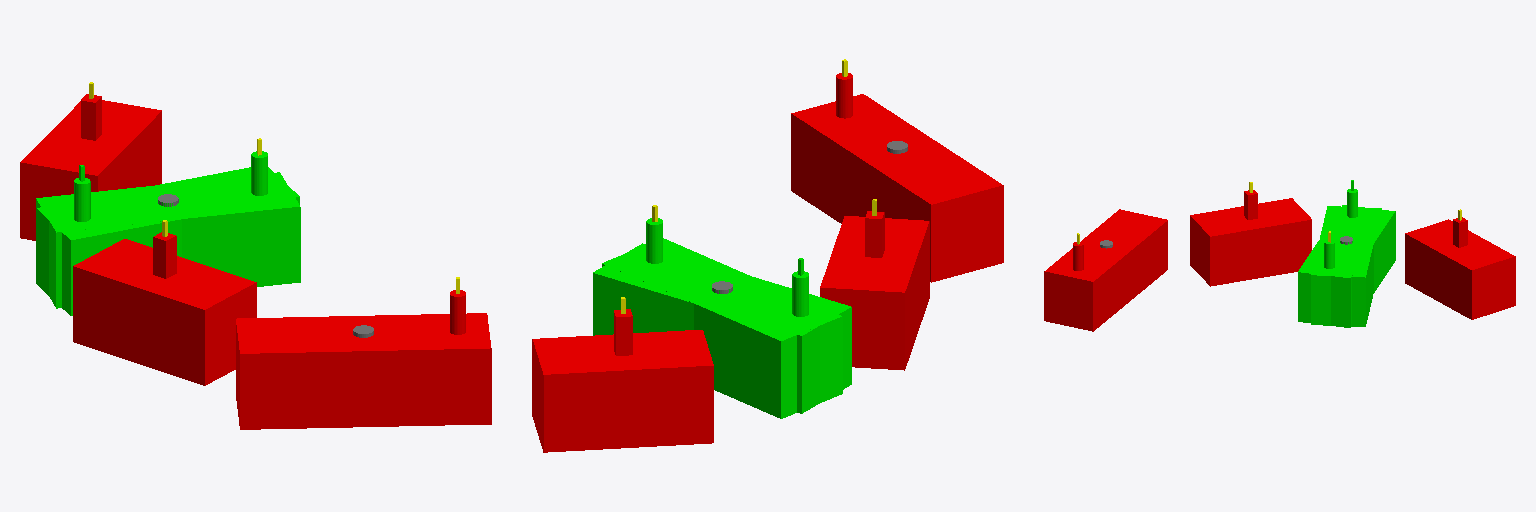
robot.urdf — continuous_space2:
<?xml version="1.0"?>
<!-- created with Phobos 1.0.1 "Capricious Choutengan" -->
  <robot name="continuous_space2">

    <link name="base_link">
    </link>

    <link name="goal">
      <visual name="visual_box_0_link_0.001">
        <origin xyz="0 0 0" rpy="0 0 0"/>
        <geometry>
          <box size="2.996 0.998 0.998"/>
        </geometry>
        <material name="green_translucent"/>
      </visual>
    </link>

    <link name="link_0_joint_0">
      <visual name="visual_box_0_link_0">
        <origin xyz="0 0 0" rpy="0 0 0"/>
        <geometry>
          <box size="2.999 0.999 0.999"/>
        </geometry>
        <material name="green"/>
      </visual>
      <collision name="collision_box_0_link_0">
        <origin xyz="0 0 0" rpy="0 0 0"/>
        <geometry>
          <box size="2.999 0.999 0.999"/>
        </geometry>
      </collision>
    </link>

    <link name="link_1_joint_0">
      <visual name="visual_box_18_link_1">
        <origin xyz="0 0 0" rpy="0 0 0"/>
        <geometry>
          <box size="1.999 0.999 0.999"/>
        </geometry>
        <material name="red"/>
      </visual>
      <collision name="collision_box_18_link_1">
        <origin xyz="0 0 0" rpy="0 0 0"/>
        <geometry>
          <box size="1.999 0.999 0.999"/>
        </geometry>
      </collision>
    </link>

    <link name="link_2_joint_0">
      <visual name="visual_box_31_link_2">
        <origin xyz="0 0 0" rpy="0 0 0"/>
        <geometry>
          <box size="2.999 0.999 0.999"/>
        </geometry>
        <material name="red"/>
      </visual>
      <collision name="collision_box_31_link_2">
        <origin xyz="0 0 0" rpy="0 0 0"/>
        <geometry>
          <box size="2.999 0.999 0.999"/>
        </geometry>
      </collision>
    </link>

    <link name="link_3_joint_0">
      <visual name="visual_box_53_link_3">
        <origin xyz="0 0 0" rpy="0 0 0"/>
        <geometry>
          <box size="1.999 0.999 0.999"/>
        </geometry>
        <material name="red"/>
      </visual>
      <collision name="collision_box_53_link_3">
        <origin xyz="0 0 0" rpy="0 0 0"/>
        <geometry>
          <box size="1.999 0.999 0.999"/>
        </geometry>
      </collision>
    </link>

    <link name="link_fixed_19_handle_shaft">
      <visual name="visual_box_fixed_19_handle_shaft">
        <origin xyz="0 0 0" rpy="0 0 0"/>
        <geometry>
          <box size="0.199 0.199 0.499"/>
        </geometry>
        <material name="red"/>
      </visual>
      <collision name="collision_box_fixed_19_handle_shaft">
        <origin xyz="0 0 0" rpy="0 0 0"/>
        <geometry>
          <box size="0.199 0.199 0.499"/>
        </geometry>
      </collision>
    </link>

    <link name="link_fixed_1_hinge">
      <visual name="visual_cylinder_fixed_1_hinge">
        <origin xyz="0 0 0" rpy="0 0 0"/>
        <geometry>
          <cylinder radius="0.1245" length="1.099"/>
        </geometry>
        <material name="gray"/>
      </visual>
    </link>

    <link name="link_fixed_1_hinge.001">
      <visual name="visual_cylinder_fixed_1_hinge.001">
        <origin xyz="0 0 0" rpy="0 0 0"/>
        <geometry>
          <cylinder radius="0.12438" length="1.0979"/>
        </geometry>
        <material name="green_translucent"/>
      </visual>
    </link>

    <link name="link_fixed_20_handle_knob">
      <visual name="visual_box_fixed_20_handle_knob">
        <origin xyz="0 0 0" rpy="0 0 0"/>
        <geometry>
          <box size="0.049 0.049 0.199"/>
        </geometry>
        <material name="yellow"/>
      </visual>
      <collision name="collision_box_fixed_20_handle_knob">
        <origin xyz="0 0 0" rpy="0 0 0"/>
        <geometry>
          <box size="0.049 0.049 0.199"/>
        </geometry>
      </collision>
    </link>

    <link name="link_fixed_2_handle_shaft">
      <visual name="visual_cylinder_fixed_2_handle_shaft">
        <origin xyz="0 0 0" rpy="0 0 0"/>
        <geometry>
          <cylinder radius="0.0995" length="0.499"/>
        </geometry>
        <material name="green"/>
      </visual>
      <collision name="collision_cylinder_fixed_2_handle_shaft">
        <origin xyz="0 0 0" rpy="0 0 0"/>
        <geometry>
          <cylinder radius="0.0995" length="0.499"/>
        </geometry>
      </collision>
    </link>

    <link name="link_fixed_2_handle_shaft.001">
      <visual name="visual_cylinder_fixed_2_handle_shaft.001">
        <origin xyz="0 0 0" rpy="0 0 0"/>
        <geometry>
          <cylinder radius="0.0994" length="0.4985"/>
        </geometry>
        <material name="green_translucent"/>
      </visual>
    </link>

    <link name="link_fixed_32_hinge">
      <visual name="visual_cylinder_fixed_32_hinge">
        <origin xyz="0 0 0" rpy="0 0 0"/>
        <geometry>
          <cylinder radius="0.1245" length="1.099"/>
        </geometry>
        <material name="gray"/>
      </visual>
    </link>

    <link name="link_fixed_33_handle_shaft">
      <visual name="visual_cylinder_fixed_33_handle_shaft">
        <origin xyz="0 0 0" rpy="0 0 0"/>
        <geometry>
          <cylinder radius="0.0995" length="0.499"/>
        </geometry>
        <material name="red"/>
      </visual>
      <collision name="collision_cylinder_fixed_33_handle_shaft">
        <origin xyz="0 0 0" rpy="0 0 0"/>
        <geometry>
          <cylinder radius="0.0995" length="0.499"/>
        </geometry>
      </collision>
    </link>

    <link name="link_fixed_34_handle_knob">
      <visual name="visual_box_fixed_34_handle_knob">
        <origin xyz="0 0 0" rpy="0 0 0"/>
        <geometry>
          <box size="0.049 0.049 0.199"/>
        </geometry>
        <material name="yellow"/>
      </visual>
      <collision name="collision_box_fixed_34_handle_knob">
        <origin xyz="0 0 0" rpy="0 0 0"/>
        <geometry>
          <box size="0.049 0.049 0.199"/>
        </geometry>
      </collision>
    </link>

    <link name="link_fixed_3_handle_knob">
      <visual name="visual_box_fixed_3_handle_knob">
        <origin xyz="0 0 0" rpy="0 0 0"/>
        <geometry>
          <box size="0.049 0.049 0.199"/>
        </geometry>
        <material name="yellow"/>
      </visual>
      <collision name="collision_box_fixed_3_handle_knob">
        <origin xyz="0 0 0" rpy="0 0 0"/>
        <geometry>
          <box size="0.049 0.049 0.199"/>
        </geometry>
      </collision>
    </link>

    <link name="link_fixed_3_handle_knob.001">
      <visual name="visual_box_fixed_3_handle_knob.001">
        <origin xyz="0 0 0" rpy="0 0 0"/>
        <geometry>
          <box size="0.04895 0.04895 0.1988"/>
        </geometry>
        <material name="green_translucent"/>
      </visual>
    </link>

    <link name="link_fixed_54_handle_shaft">
      <visual name="visual_box_fixed_54_handle_shaft">
        <origin xyz="0 0 0" rpy="0 0 0"/>
        <geometry>
          <box size="0.199 0.199 0.499"/>
        </geometry>
        <material name="red"/>
      </visual>
      <collision name="collision_box_fixed_54_handle_shaft">
        <origin xyz="0 0 0" rpy="0 0 0"/>
        <geometry>
          <box size="0.199 0.199 0.499"/>
        </geometry>
      </collision>
    </link>

    <link name="link_fixed_55_handle_knob">
      <visual name="visual_box_fixed_55_handle_knob">
        <origin xyz="0 0 0" rpy="0 0 0"/>
        <geometry>
          <box size="0.049 0.049 0.199"/>
        </geometry>
        <material name="yellow"/>
      </visual>
      <collision name="collision_box_fixed_55_handle_knob">
        <origin xyz="0 0 0" rpy="0 0 0"/>
        <geometry>
          <box size="0.049 0.049 0.199"/>
        </geometry>
      </collision>
    </link>

    <joint name="goal" type="fixed">
      <origin xyz="0 0 0.5" rpy="0 0 3.04301"/>
      <parent link="base_link"/>
      <child link="goal"/>
      <limit effort="0" velocity="0"/>
    </joint>

    <joint name="link_0_joint_0" type="revolute">
      <origin xyz="0 0 0.5" rpy="0 0 -0.27625"/>
      <parent link="base_link"/>
      <child link="link_0_joint_0"/>
      <axis xyz="0 0 1.0"/>
      <limit lower="-2.96393" upper="0" effort="0" velocity="0"/>
    </joint>

    <joint name="link_1_joint_0" type="prismatic">
      <origin xyz="-1.04742 -1.73407 0.5" rpy="0 0 -1.1906"/>
      <parent link="base_link"/>
      <child link="link_1_joint_0"/>
      <axis xyz="1.0 0 0"/>
      <limit lower="0" upper="2.04772" effort="0" velocity="0"/>
    </joint>

    <joint name="link_2_joint_0" type="revolute">
      <origin xyz="0.16837 -4.3637 0.5" rpy="0 0 -0.47229"/>
      <parent link="base_link"/>
      <child link="link_2_joint_0"/>
      <axis xyz="0 0 1.0"/>
      <limit lower="0" upper="2.61231" effort="0" velocity="0"/>
    </joint>

    <joint name="link_3_joint_0" type="prismatic">
      <origin xyz="0.13753 2.06611 0.5" rpy="0 0 0.6531"/>
      <parent link="base_link"/>
      <child link="link_3_joint_0"/>
      <axis xyz="1.0 0 0"/>
      <limit lower="0" upper="2.42096" effort="0" velocity="0"/>
    </joint>

    <joint name="link_fixed_19_handle_shaft" type="fixed">
      <origin xyz="0 0 0.75" rpy="0 0 0"/>
      <parent link="link_1_joint_0"/>
      <child link="link_fixed_19_handle_shaft"/>
    </joint>

    <joint name="link_fixed_1_hinge" type="fixed">
      <origin xyz="0 0 0" rpy="0 0 0"/>
      <parent link="link_0_joint_0"/>
      <child link="link_fixed_1_hinge"/>
    </joint>

    <joint name="link_fixed_1_hinge.001" type="fixed">
      <origin xyz="0 0 0" rpy="0 0 0"/>
      <parent link="goal"/>
      <child link="link_fixed_1_hinge.001"/>
    </joint>

    <joint name="link_fixed_20_handle_knob" type="fixed">
      <origin xyz="0 0 0.35" rpy="0 0 0"/>
      <parent link="link_fixed_19_handle_shaft"/>
      <child link="link_fixed_20_handle_knob"/>
    </joint>

    <joint name="link_fixed_2_handle_shaft" type="fixed">
      <origin xyz="1.125 0 0.75" rpy="0 0 0"/>
      <parent link="link_0_joint_0"/>
      <child link="link_fixed_2_handle_shaft"/>
    </joint>

    <joint name="link_fixed_2_handle_shaft.001" type="fixed">
      <origin xyz="1.12388 0 0.74925" rpy="0 0 0"/>
      <parent link="goal"/>
      <child link="link_fixed_2_handle_shaft.001"/>
    </joint>

    <joint name="link_fixed_32_hinge" type="fixed">
      <origin xyz="0 0 0" rpy="0 0 0"/>
      <parent link="link_2_joint_0"/>
      <child link="link_fixed_32_hinge"/>
    </joint>

    <joint name="link_fixed_33_handle_shaft" type="fixed">
      <origin xyz="1.125 0 0.75" rpy="0 0 0"/>
      <parent link="link_2_joint_0"/>
      <child link="link_fixed_33_handle_shaft"/>
    </joint>

    <joint name="link_fixed_34_handle_knob" type="fixed">
      <origin xyz="0 0 0.35" rpy="0 0 0"/>
      <parent link="link_fixed_33_handle_shaft"/>
      <child link="link_fixed_34_handle_knob"/>
    </joint>

    <joint name="link_fixed_3_handle_knob" type="fixed">
      <origin xyz="0 0 0.35" rpy="0 0 0"/>
      <parent link="link_fixed_2_handle_shaft"/>
      <child link="link_fixed_3_handle_knob"/>
    </joint>

    <joint name="link_fixed_3_handle_knob.001" type="fixed">
      <origin xyz="0 0 0.34965" rpy="0 0 0"/>
      <parent link="link_fixed_2_handle_shaft.001"/>
      <child link="link_fixed_3_handle_knob.001"/>
    </joint>

    <joint name="link_fixed_54_handle_shaft" type="fixed">
      <origin xyz="0 0 0.75" rpy="0 0 0"/>
      <parent link="link_3_joint_0"/>
      <child link="link_fixed_54_handle_shaft"/>
    </joint>

    <joint name="link_fixed_55_handle_knob" type="fixed">
      <origin xyz="0 0 0.35" rpy="0 0 0"/>
      <parent link="link_fixed_54_handle_shaft"/>
      <child link="link_fixed_55_handle_knob"/>
    </joint>

    <material name="gray">
      <color rgba="0.5 0.5 0.5 1.0"/>
    </material>

    <material name="green">
      <color rgba="0 1.0 0 1.0"/>
    </material>

    <material name="green_translucent">
      <color rgba="0 1.0 0 0.25"/>
    </material>

    <material name="red">
      <color rgba="1.0 0 0 1.0"/>
    </material>

    <material name="yellow">
      <color rgba="1.0 1.0 0 1.0"/>
    </material>

  </robot>

--- What the picture shows (computed from the rendered views, not written in the file) ---
Views: 3 orthographic renders of the robot side by side, from view 1: azimuth 30°, elevation 25°; view 2: azimuth 150°, elevation 25°; view 3: azimuth 270°, elevation 25°.
Model continuous_space2 with 19 links and 18 joints (2 revolute, 2 prismatic, 14 fixed), rooted at base_link, posed every joint at zero.
Visible links, largest first — view 1: link_2_joint_0, link_1_joint_0, link_0_joint_0, link_3_joint_0, goal, link_fixed_19_handle_shaft, link_fixed_54_handle_shaft, link_fixed_2_handle_shaft, link_fixed_2_handle_shaft.001, link_fixed_33_handle_shaft; view 2: link_2_joint_0, link_3_joint_0, link_0_joint_0, link_1_joint_0, goal, link_fixed_19_handle_shaft, link_fixed_54_handle_shaft, link_fixed_2_handle_shaft, link_fixed_2_handle_shaft.001, link_fixed_33_handle_shaft; view 3: link_2_joint_0, link_1_joint_0, link_3_joint_0, link_0_joint_0, goal.
Boxes of the visible links, bbox=[...] form: link_2_joint_0: bbox=[236, 313, 491, 429]; link_1_joint_0: bbox=[73, 239, 256, 385]; link_0_joint_0: bbox=[36, 172, 300, 308]; link_3_joint_0: bbox=[20, 100, 161, 240]; goal: bbox=[36, 167, 299, 315]; link_fixed_19_handle_shaft: bbox=[153, 232, 176, 278]; link_fixed_54_handle_shaft: bbox=[81, 94, 101, 140]; link_fixed_2_handle_shaft: bbox=[251, 151, 267, 195]; link_fixed_2_handle_shaft.001: bbox=[74, 178, 90, 221]; link_fixed_33_handle_shaft: bbox=[450, 290, 465, 334]; link_2_joint_0: bbox=[791, 94, 1003, 282]; link_3_joint_0: bbox=[532, 330, 713, 452]; link_0_joint_0: bbox=[602, 238, 842, 418]; link_1_joint_0: bbox=[820, 216, 929, 370]; goal: bbox=[593, 243, 851, 413]; link_fixed_19_handle_shaft: bbox=[865, 211, 884, 257]; link_fixed_54_handle_shaft: bbox=[614, 309, 632, 355]; link_fixed_2_handle_shaft: bbox=[646, 218, 662, 263]; link_fixed_2_handle_shaft.001: bbox=[792, 271, 808, 316]; link_fixed_33_handle_shaft: bbox=[836, 73, 852, 118]; link_2_joint_0: bbox=[1044, 209, 1167, 331]; link_1_joint_0: bbox=[1190, 198, 1311, 286]; link_3_joint_0: bbox=[1405, 219, 1515, 319]; link_0_joint_0: bbox=[1298, 205, 1395, 327]; goal: bbox=[1311, 206, 1381, 326].
Bounding box of the posed robot: 3.61 × 8.56 × 1.75 m (x, y, z).
Geometry: primitives only (box / cylinder / sphere), no mesh files.